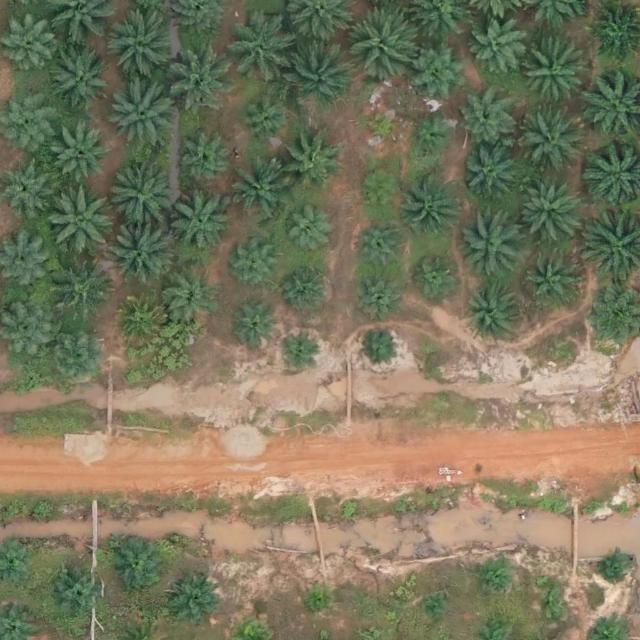Kelapa_Sawit: (281, 36, 351, 107), (103, 76, 173, 147), (105, 11, 175, 82), (43, 185, 113, 256), (345, 7, 415, 77), (163, 39, 233, 109), (106, 218, 176, 288), (101, 158, 171, 228), (521, 43, 583, 106), (518, 113, 580, 176), (515, 180, 577, 243), (408, 38, 470, 101), (278, 131, 340, 194), (224, 161, 286, 224), (224, 19, 286, 82), (168, 191, 230, 254), (47, 46, 109, 109), (48, 257, 110, 320), (402, 172, 464, 235), (460, 212, 522, 274), (47, 564, 102, 619), (458, 93, 513, 148), (349, 269, 404, 324), (111, 293, 166, 348), (238, 92, 293, 147), (54, 129, 109, 184), (110, 537, 164, 592), (527, 254, 581, 309), (465, 284, 519, 339), (469, 18, 523, 73), (460, 147, 514, 202), (355, 219, 409, 274), (178, 135, 232, 190), (163, 273, 217, 328), (48, 330, 102, 385), (1, 16, 55, 71), (170, 580, 216, 627), (282, 208, 328, 255), (283, 263, 329, 310), (407, 113, 453, 160), (357, 168, 403, 215), (412, 252, 458, 298), (232, 242, 278, 288), (231, 305, 277, 351), (276, 331, 315, 370), (359, 328, 397, 367), (361, 106, 399, 145), (596, 550, 627, 581), (536, 589, 567, 620), (478, 560, 509, 591), (422, 599, 445, 622), (305, 589, 328, 612)
